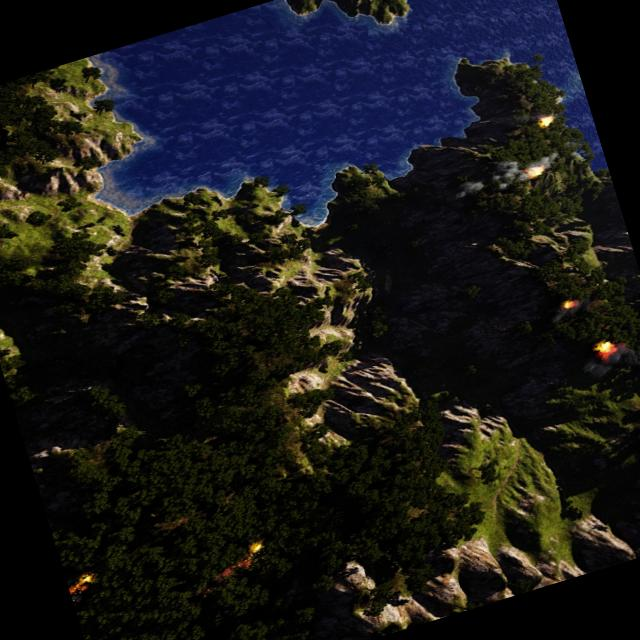fire: (210, 540, 270, 579), (65, 570, 97, 596), (591, 338, 614, 358), (522, 162, 548, 179), (556, 298, 574, 312), (536, 113, 552, 127)
smoke: (448, 146, 560, 204)
